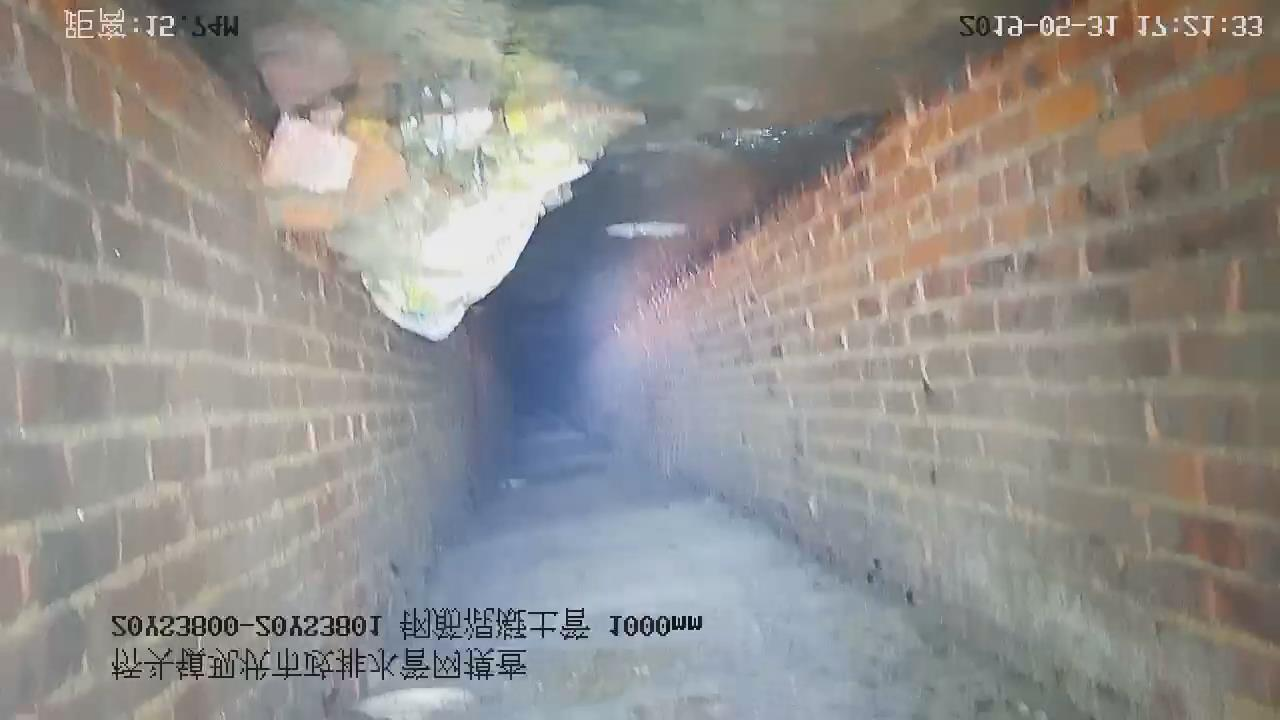ZAW: (261, 102, 642, 341)
